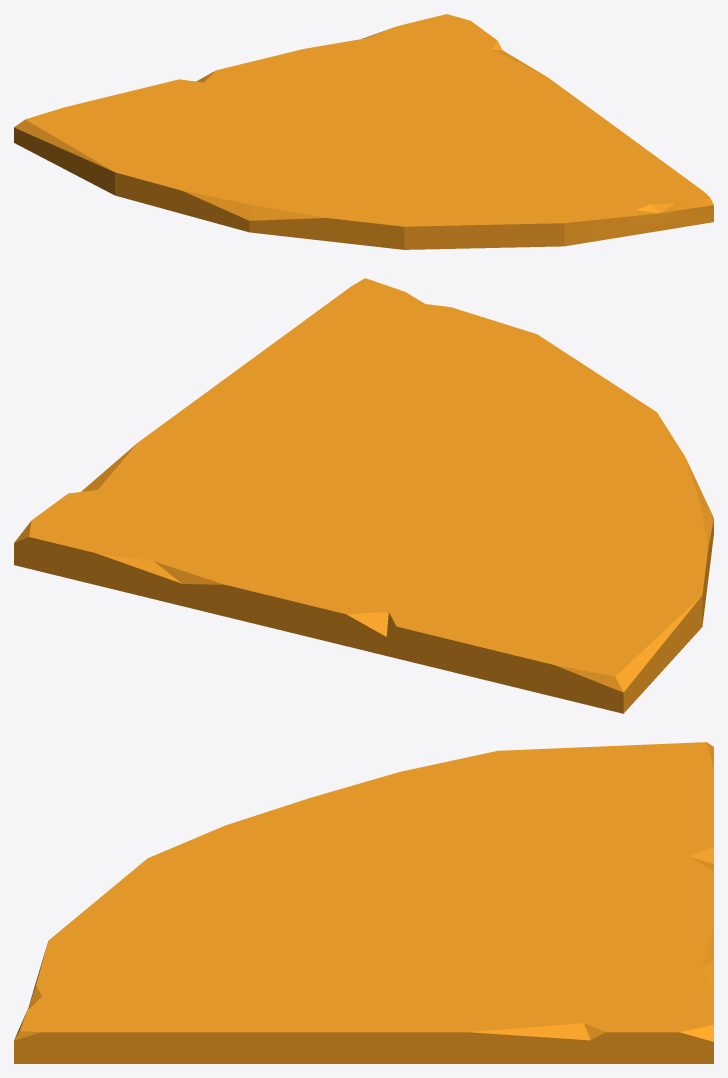
The model's file is SM_Buildings_FloorCurved_2x2_01P.fbx.
3 views of the same model, one above another, from view 1: azimuth 30°, elevation 25°; view 2: azimuth 150°, elevation 25°; view 3: azimuth 270°, elevation 25° (orthographic). The views are drawn at different scales.
Visible parts, largest first — view 1: SM_Buildings_FloorCurved_2x2_01P; view 2: SM_Buildings_FloorCurved_2x2_01P; view 3: SM_Buildings_FloorCurved_2x2_01P.
Part boxes in pixels (box(x1,y1,x2,y2)): SM_Buildings_FloorCurved_2x2_01P: box(14, 14, 713, 249); SM_Buildings_FloorCurved_2x2_01P: box(14, 278, 713, 713); SM_Buildings_FloorCurved_2x2_01P: box(14, 742, 713, 1063).
Size of the model in its own units: 200 by 10 by 200.
